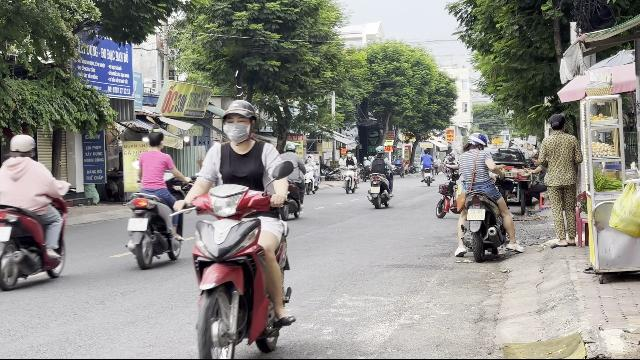helmet: (220, 99, 258, 141), (8, 134, 36, 158), (465, 132, 487, 150)
licenseplate: (128, 218, 148, 231), (467, 210, 485, 220)
motorcyclist: (179, 98, 301, 356), (0, 131, 70, 289), (451, 130, 517, 262), (124, 128, 186, 268)
nohelmet: (146, 130, 164, 150)
